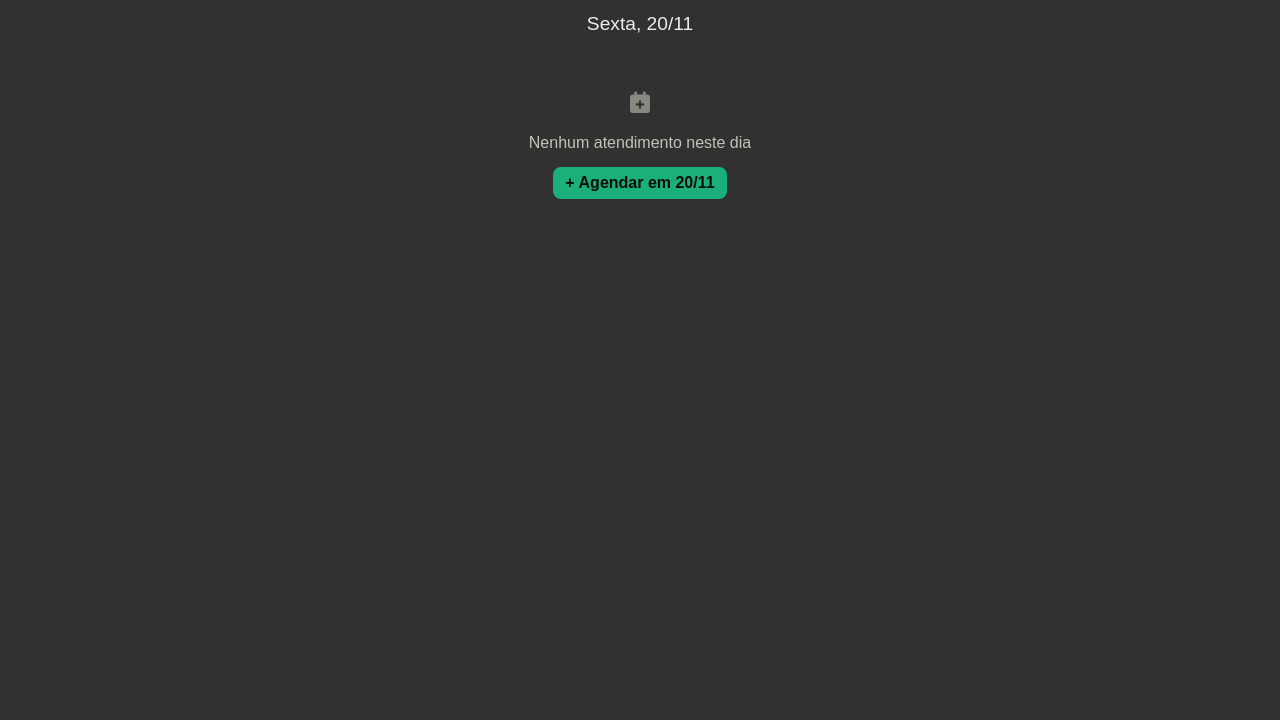
Test: telas › dia vazio oferece agendar já com a data do dia
Step 1. Click the button "+ Agendar em 20/11" → (640, 183), box [553,167,727,199]
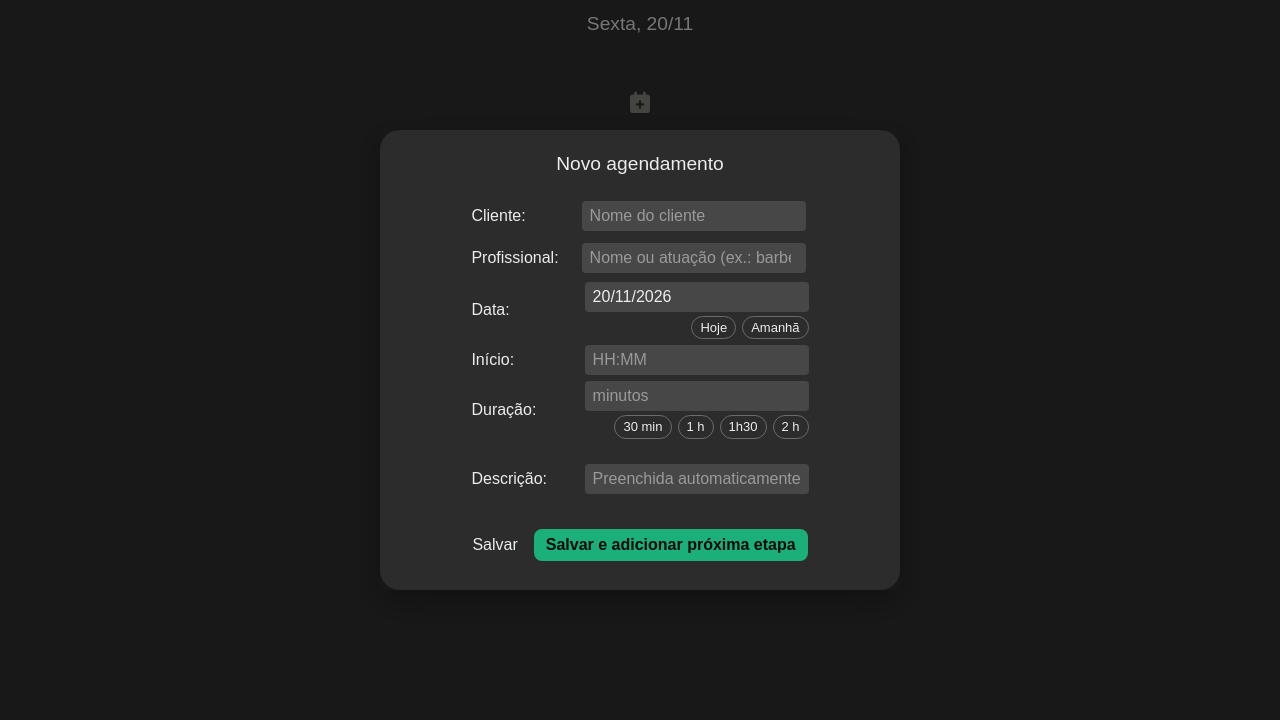
expect the field labelled "Data:" holds "20/11/2026": met, box [585,282,809,312]
